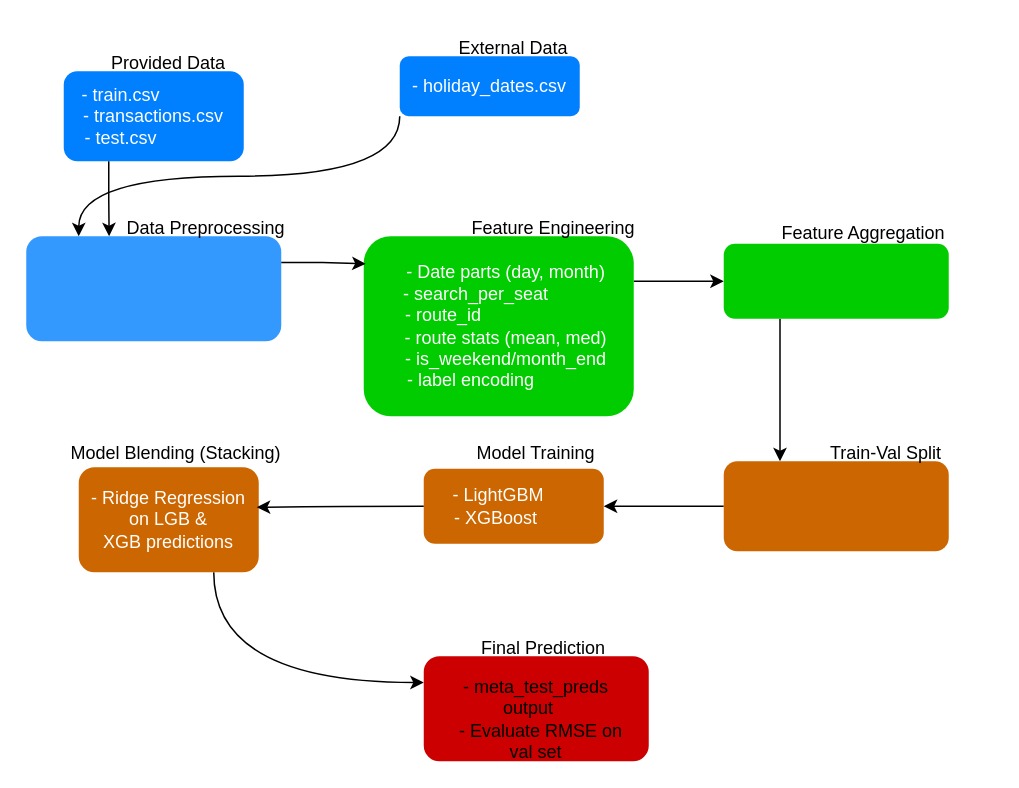
Some shapes in this 1019 by 788 pixel diagram are drawn without their labels. The box of each missing label's shape, as (x1, y1, x2, y2) in pixels:
- 85/15 chronological split: (723, 460, 948, 550)
- Parse DOJ, DOI - Filter dbd = 15 - Merge train/test + db15: (26, 236, 280, 340)
- route_freq_rank - route_dow skew: (723, 243, 948, 318)
